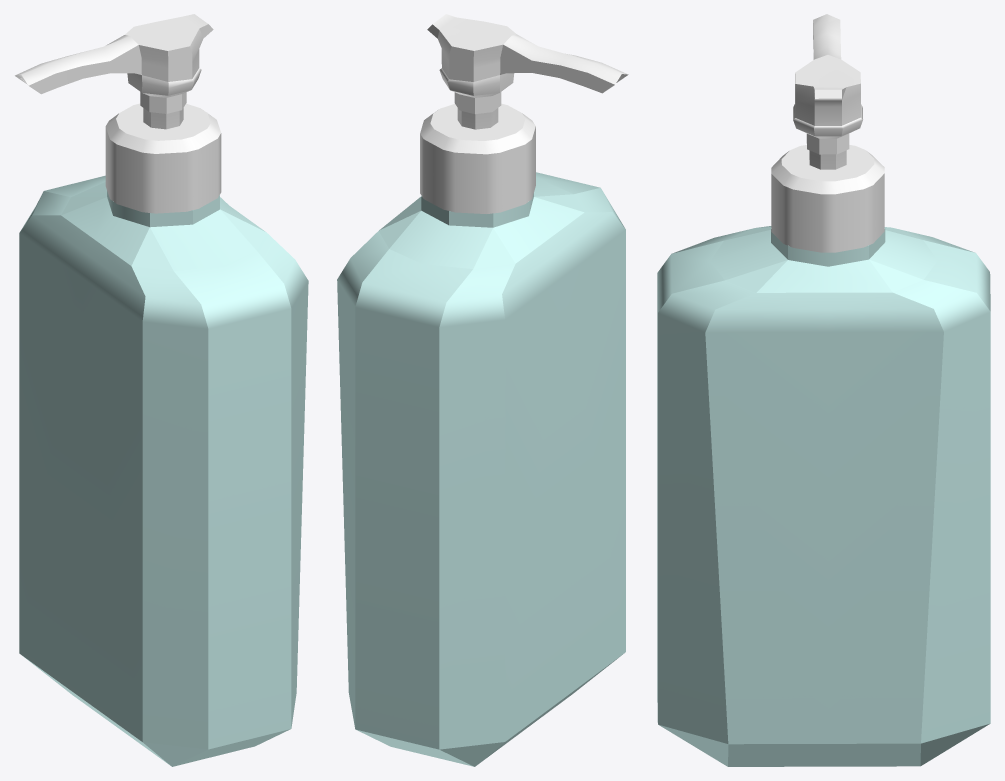
Rendered from weapon.obj.
3 views of the same model, side by side, from view 1: azimuth 30°, elevation 25°; view 2: azimuth 150°, elevation 25°; view 3: azimuth 270°, elevation 25° (orthographic). The views are drawn at different scales.
Parts seen in each view (by area): view 1: bottle, bigRing bottle, head cap; view 2: bottle, bigRing bottle, head cap; view 3: bottle, bigRing bottle, head cap.
Boxes of the visible parts, x1,y1,x2,y2 form: bottle: [19, 175, 308, 766]; bigRing bottle: [105, 103, 221, 213]; head cap: [15, 14, 213, 129]; bottle: [337, 172, 625, 766]; bigRing bottle: [420, 103, 535, 213]; head cap: [427, 14, 628, 129]; bottle: [657, 226, 990, 766]; bigRing bottle: [771, 145, 884, 252]; head cap: [793, 14, 862, 169].
Size of the model in its own units: 4.46 by 13.06 by 5.83.
